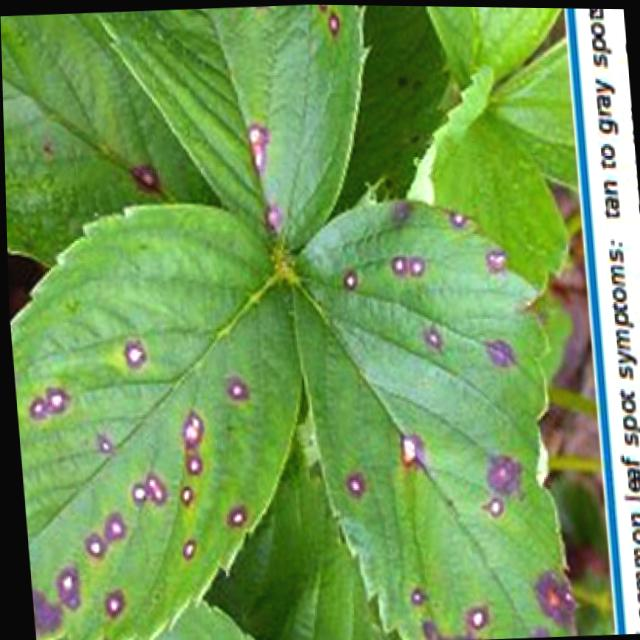Leaf Spot: (7, 201, 300, 640), (285, 198, 576, 640), (0, 4, 371, 269)
